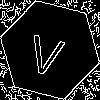V: (25, 25, 69, 78)
